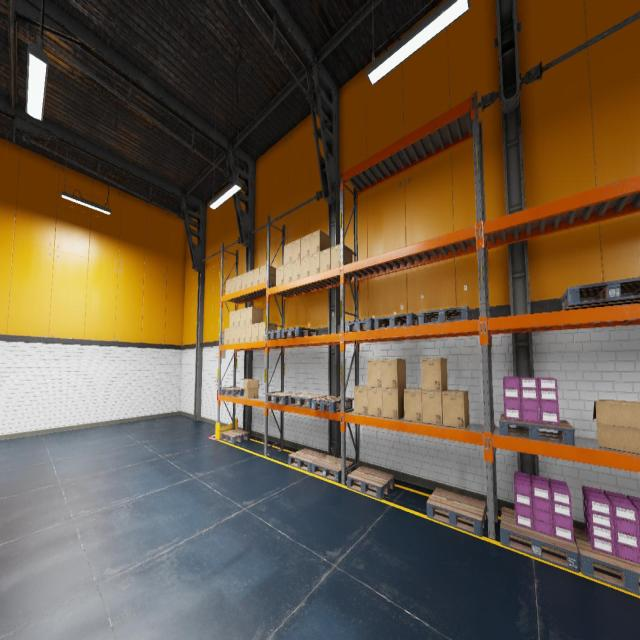box: (592, 399, 640, 454), (442, 389, 469, 428), (422, 358, 448, 391), (382, 387, 406, 419), (422, 390, 443, 426), (382, 359, 406, 388), (404, 388, 422, 422), (310, 229, 330, 255), (331, 244, 352, 268), (367, 359, 382, 388), (368, 387, 382, 417), (354, 384, 368, 414), (258, 322, 277, 341), (246, 306, 263, 325), (260, 264, 276, 284), (243, 379, 259, 398), (320, 248, 330, 272), (300, 234, 310, 258), (300, 255, 310, 278), (310, 252, 320, 275), (292, 238, 301, 262), (284, 242, 292, 264), (292, 259, 300, 280), (284, 262, 292, 283), (276, 265, 284, 286), (252, 323, 258, 341), (246, 324, 252, 342), (240, 308, 246, 326), (229, 310, 235, 328), (253, 267, 259, 285), (247, 270, 253, 288), (241, 272, 247, 289), (240, 326, 246, 342), (234, 327, 240, 343), (230, 276, 236, 292), (229, 327, 234, 344), (236, 274, 241, 291), (224, 328, 229, 344), (235, 310, 240, 326), (226, 278, 230, 294)
pallets: (500, 507, 579, 572), (573, 527, 640, 595), (426, 488, 486, 536), (561, 277, 640, 310), (499, 414, 575, 445), (347, 466, 394, 500), (312, 455, 353, 482), (418, 306, 471, 325), (288, 449, 327, 472), (374, 313, 418, 329), (311, 396, 352, 412), (288, 393, 326, 408), (281, 326, 318, 338), (221, 429, 250, 444), (266, 392, 302, 404), (345, 318, 374, 332), (265, 330, 288, 340), (221, 387, 244, 396)
